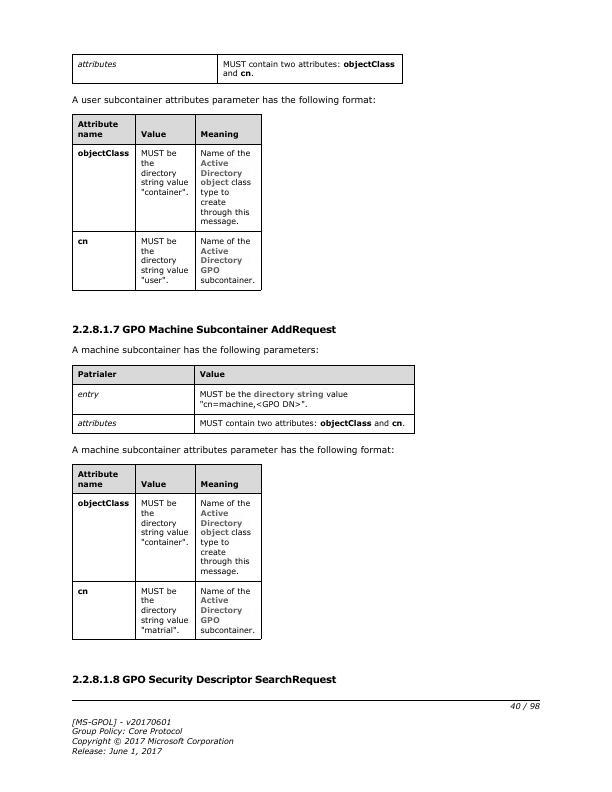table: (73, 114, 263, 292), (73, 464, 262, 641), (72, 364, 416, 435), (72, 54, 404, 85)
text: (68, 716, 237, 757), (70, 442, 397, 455), (71, 672, 338, 687), (70, 94, 378, 106), (71, 323, 339, 336), (69, 343, 321, 356)
